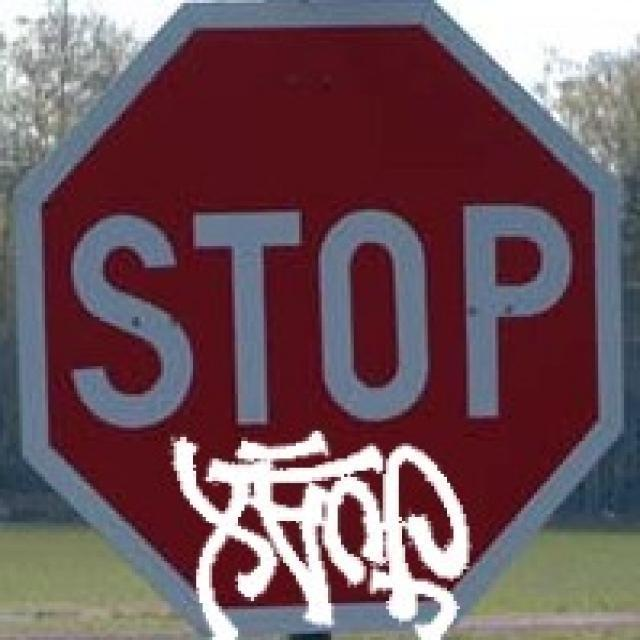Stop-Sign: (68, 41, 574, 576)
